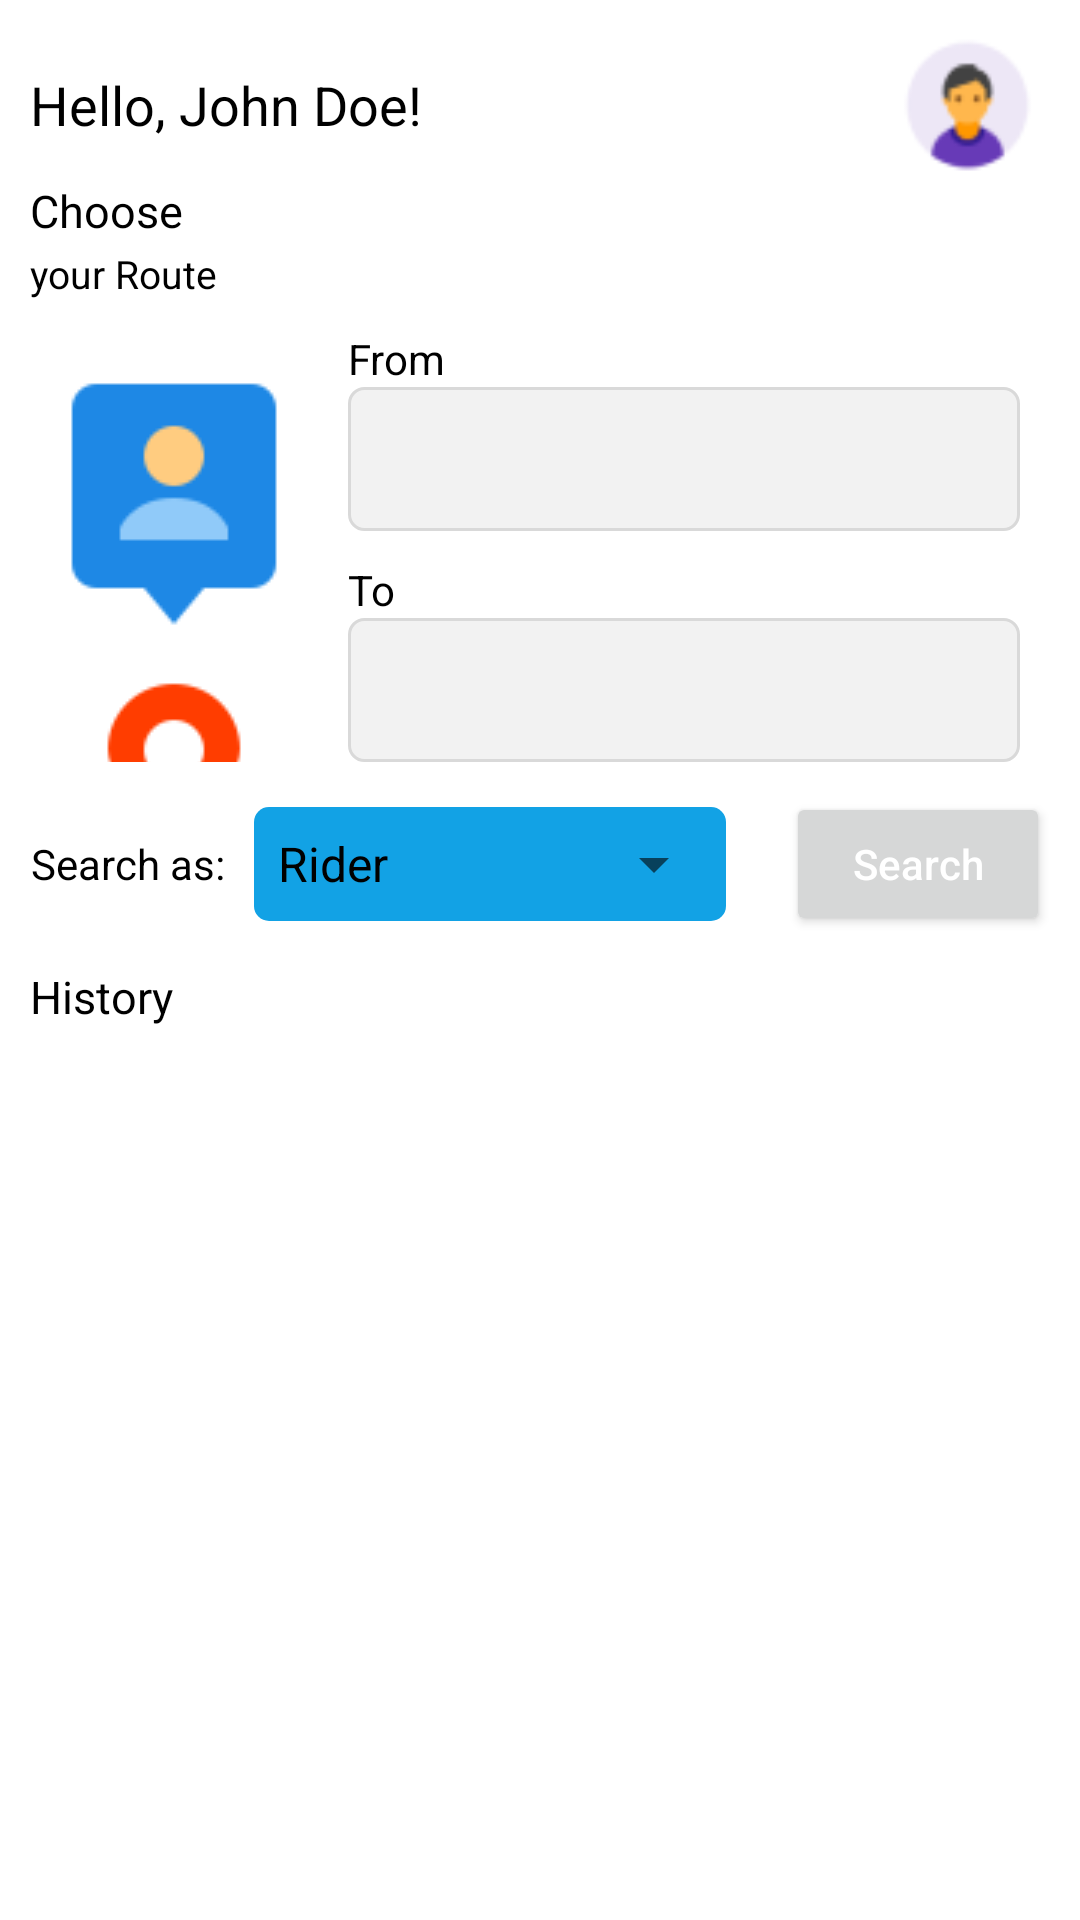

Where to tap for icons on this 1080×1920 app screen, as point (x, y):
male user formatter: point (967, 116)
user location: point (174, 504)
